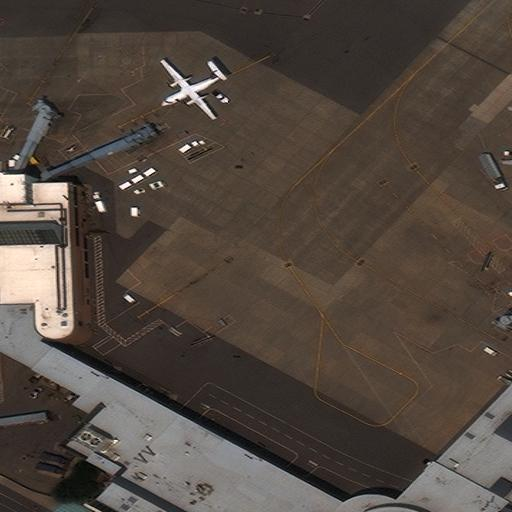Medium Civil Transport: (160, 61, 220, 120)
